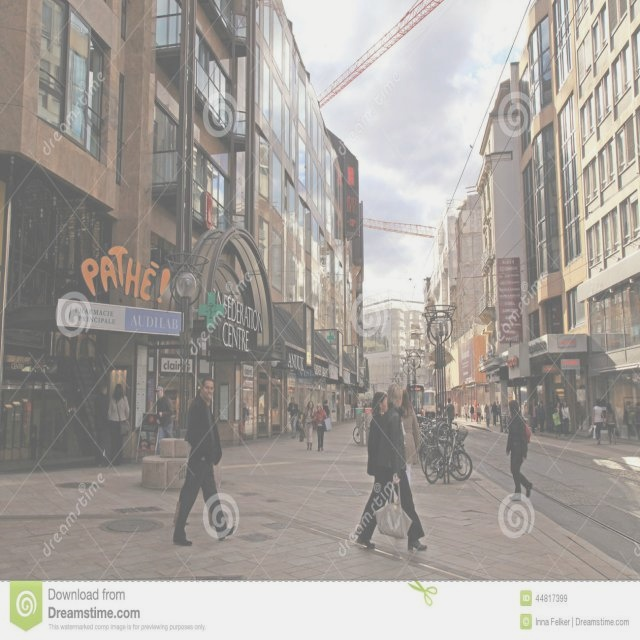pessoa: (356, 378, 430, 554), (170, 373, 238, 549), (504, 397, 534, 502), (399, 389, 421, 489), (366, 390, 389, 484), (108, 383, 130, 468), (155, 386, 175, 456), (94, 383, 110, 468), (300, 399, 316, 452), (602, 401, 620, 446), (312, 402, 328, 452), (590, 396, 606, 446), (622, 399, 636, 440), (286, 396, 299, 440), (445, 396, 458, 436), (560, 400, 572, 440), (536, 399, 548, 437), (527, 398, 538, 436), (631, 401, 640, 442), (576, 400, 586, 430), (520, 399, 530, 424), (354, 398, 374, 408), (498, 400, 505, 426), (484, 403, 491, 428), (491, 401, 498, 426), (462, 401, 470, 422), (468, 403, 476, 423), (242, 404, 250, 424), (496, 400, 502, 424), (476, 402, 482, 425), (322, 399, 330, 416), (453, 402, 458, 419), (556, 402, 562, 414), (344, 408, 350, 419)
